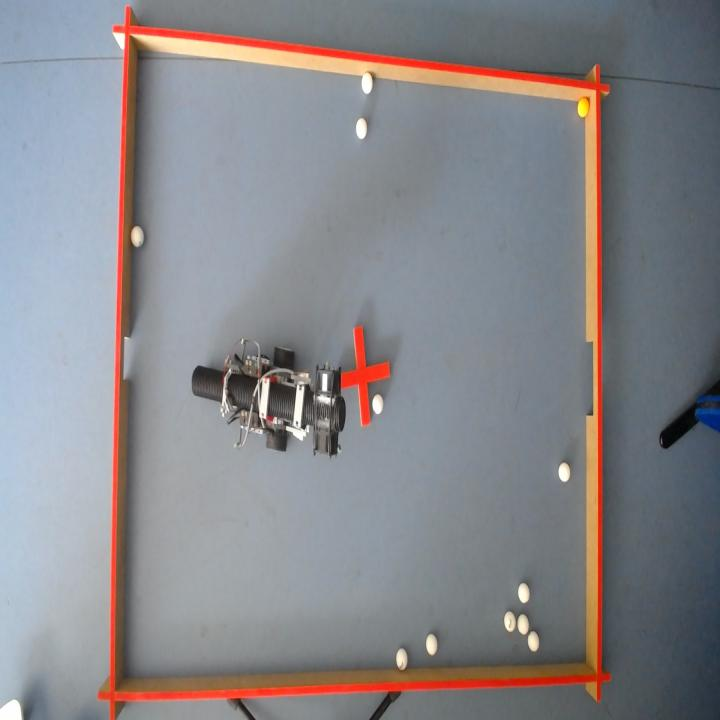orange: (579, 95, 591, 116)
robot: (192, 339, 345, 454)
white: (356, 115, 368, 138), (130, 225, 143, 246), (396, 649, 408, 670), (426, 635, 438, 656), (519, 583, 531, 604), (504, 611, 516, 632), (518, 614, 530, 635), (528, 631, 540, 652), (362, 70, 373, 92), (372, 394, 384, 414), (559, 463, 571, 482)
